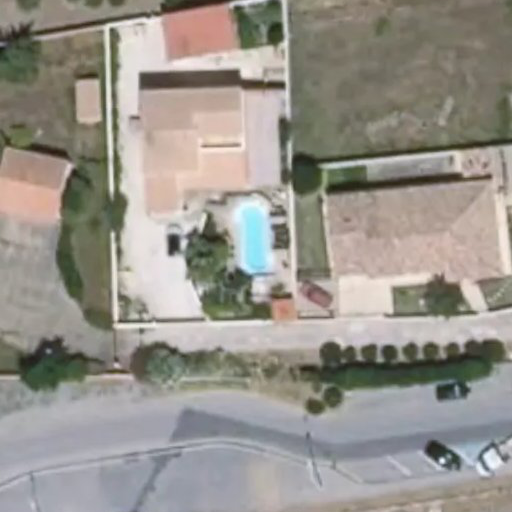pool: (239, 211, 272, 272)
